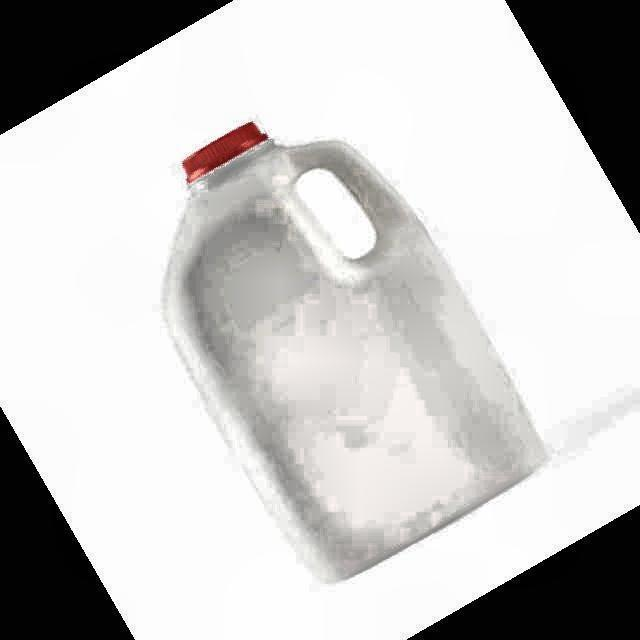plastic: (166, 122, 542, 578)
